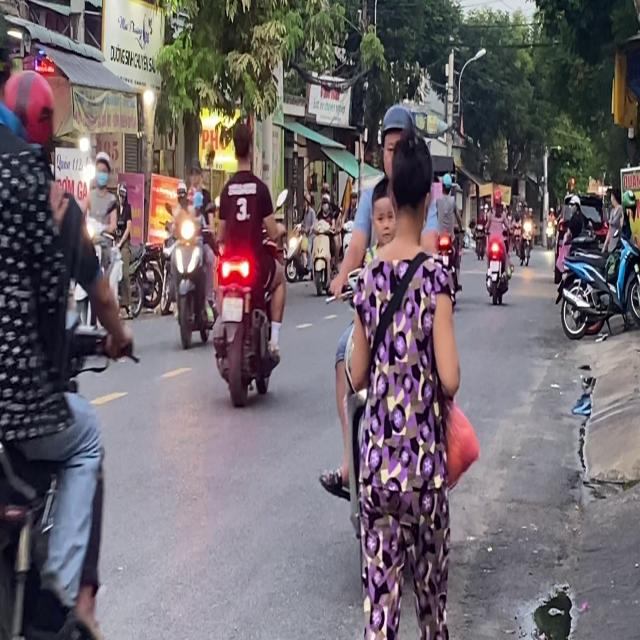helmet: (3, 68, 57, 165), (92, 150, 110, 186)
licenseplate: (0, 10, 135, 634), (212, 118, 286, 405), (79, 148, 135, 461), (169, 157, 216, 347)
motorcyclist: (231, 120, 254, 168), (187, 158, 203, 190)
nohelmet: (222, 296, 242, 321)
